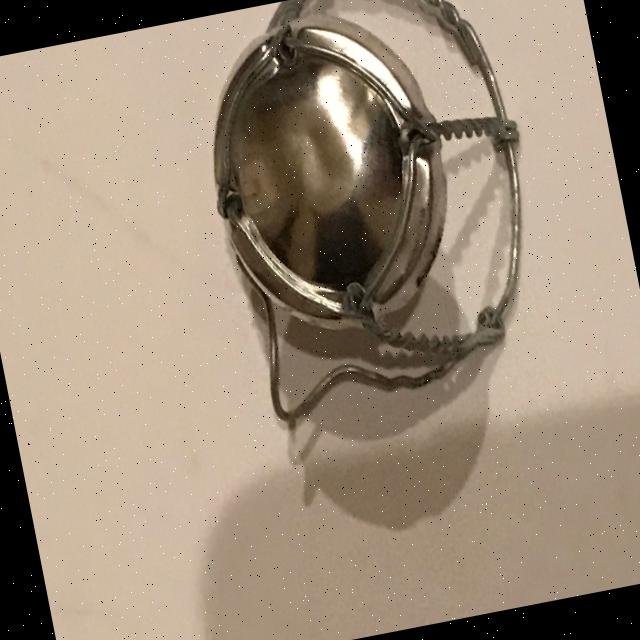metal: (179, 0, 565, 433)
